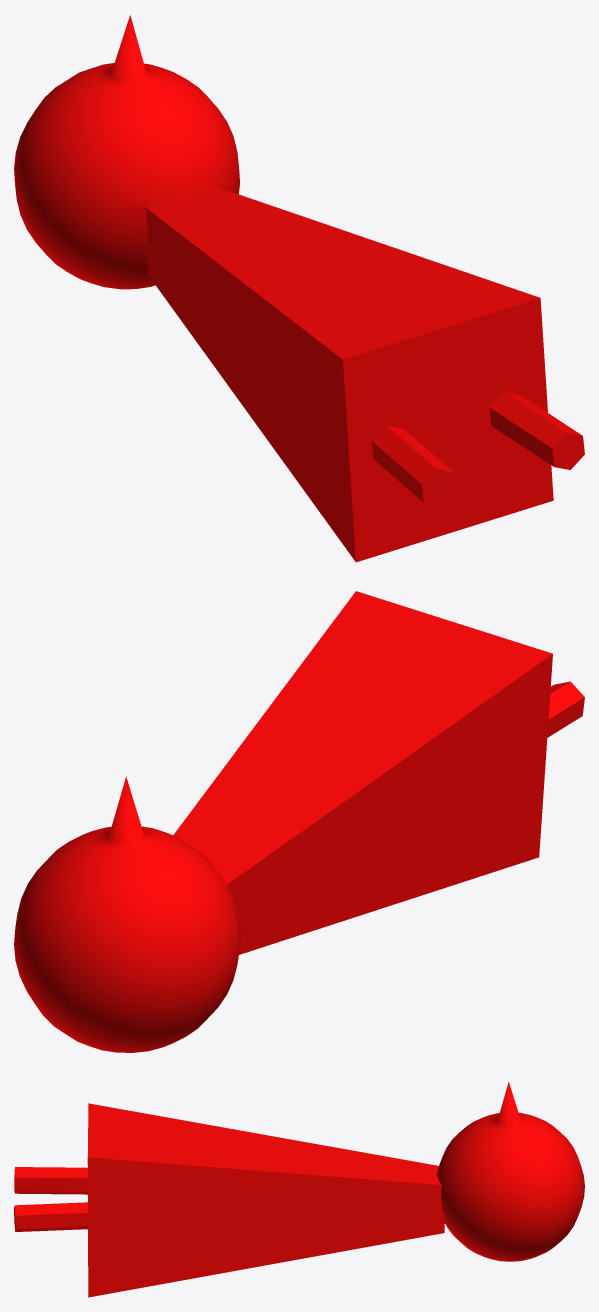
Rendered from doll.fbx.
The picture shows the model from 3 angles, top to bottom: view 1: azimuth 30°, elevation 25°; view 2: azimuth 150°, elevation 25°; view 3: azimuth 270°, elevation 25°; orthographic projection. The views are drawn at different scales.
Visible parts, largest first — view 1: doll; view 2: doll; view 3: doll.
Boxes of the visible parts, x1,y1,x2,y2 form: doll: (14, 15, 584, 562); doll: (14, 591, 584, 1052); doll: (14, 1082, 584, 1297).
Size of the model in its own units: 0.8115 by 2.9 by 1.07.
